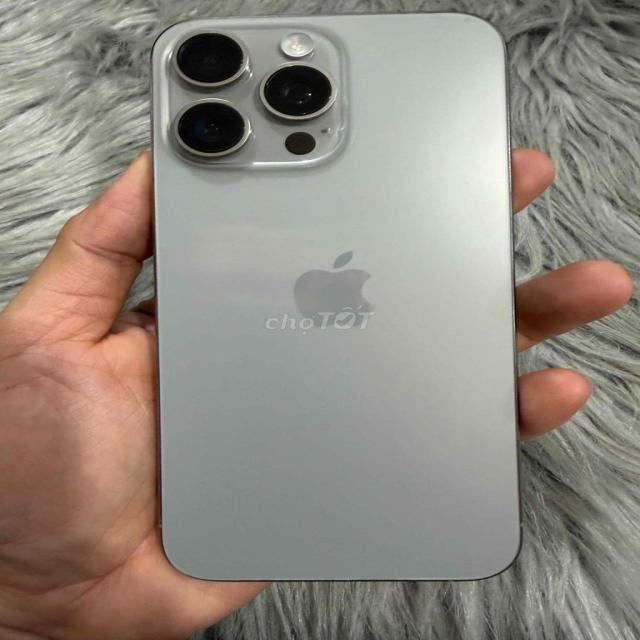gen_15: (137, 11, 536, 607)
